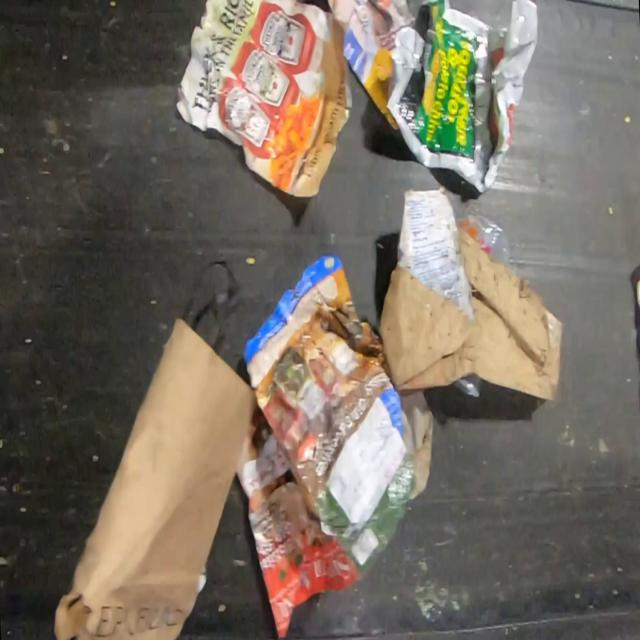cardboard: (54, 316, 256, 639), (378, 188, 565, 406)
rigid_plastic: (457, 211, 512, 272), (453, 370, 484, 398)
soft_plastic: (386, 0, 538, 193)
